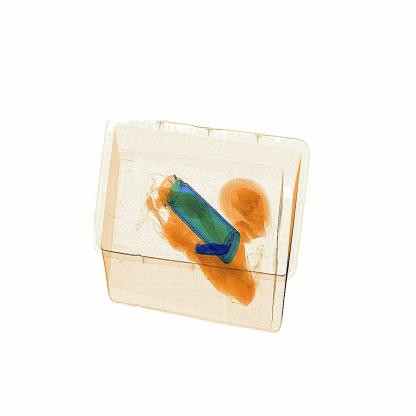knife: (191, 238, 245, 268)
